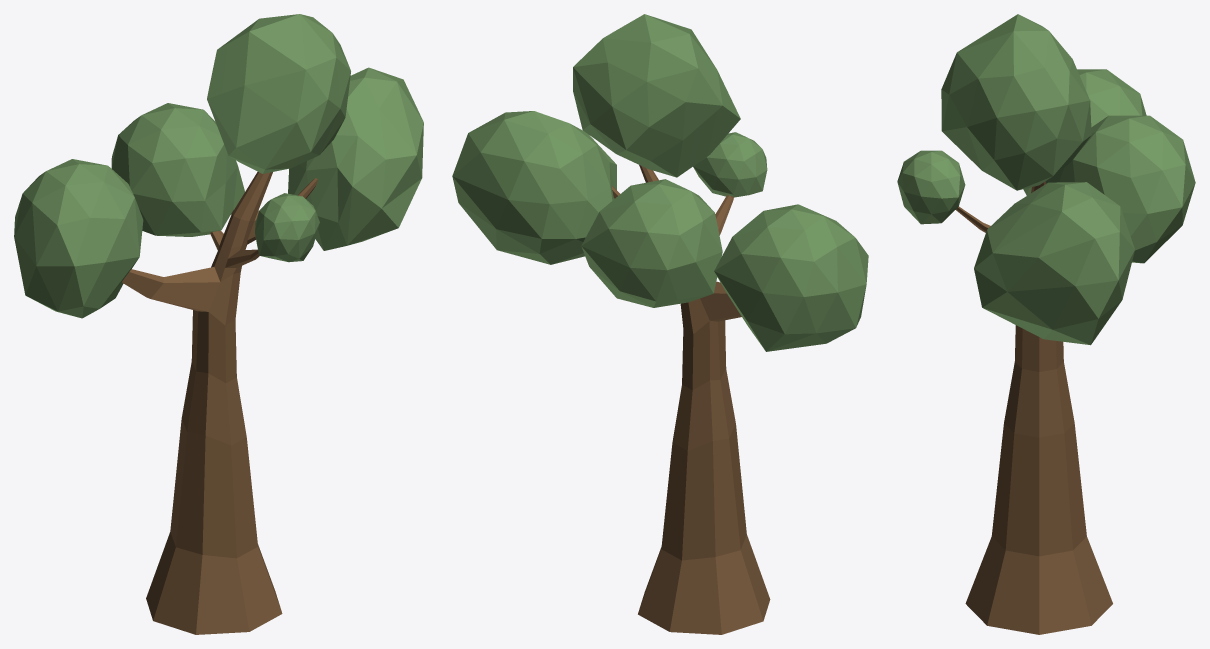
File: f_long_oak_tree5.fbx
3 views of the same model, side by side, from view 1: azimuth 30°, elevation 25°; view 2: azimuth 150°, elevation 25°; view 3: azimuth 270°, elevation 25° (orthographic). The views are drawn at different scales.
Parts seen in each view (by area): view 1: oak tree 5; view 2: oak tree 5; view 3: oak tree 5.
Part boxes in pixels (box(x1,y1,x2,y2)): oak tree 5: box(14, 14, 423, 634); oak tree 5: box(452, 14, 868, 634); oak tree 5: box(897, 14, 1195, 634).
Bounding box in the file's own units: 1055 × 1477 × 655.
